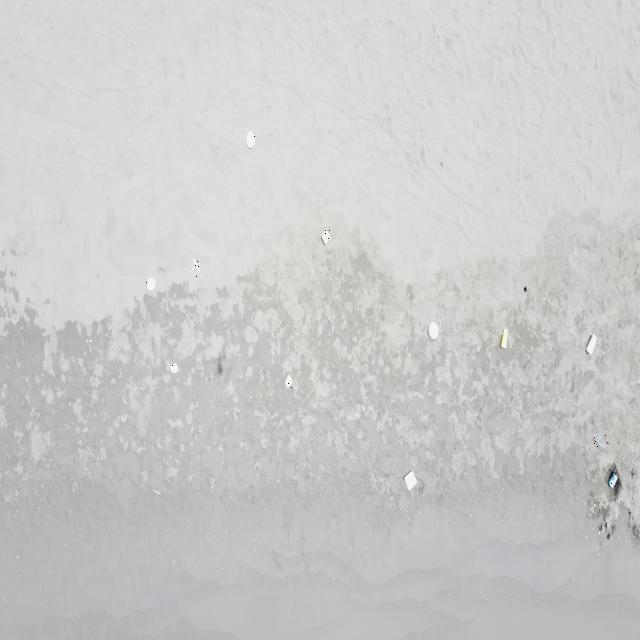take-away-containers: (403, 469, 418, 493), (428, 322, 439, 340), (246, 131, 256, 149), (321, 229, 331, 245), (146, 277, 156, 292), (284, 374, 292, 388), (171, 362, 178, 374)
takeaway-cup: (191, 256, 203, 278), (586, 334, 597, 356), (594, 433, 606, 449), (500, 328, 508, 350), (609, 473, 617, 488)
